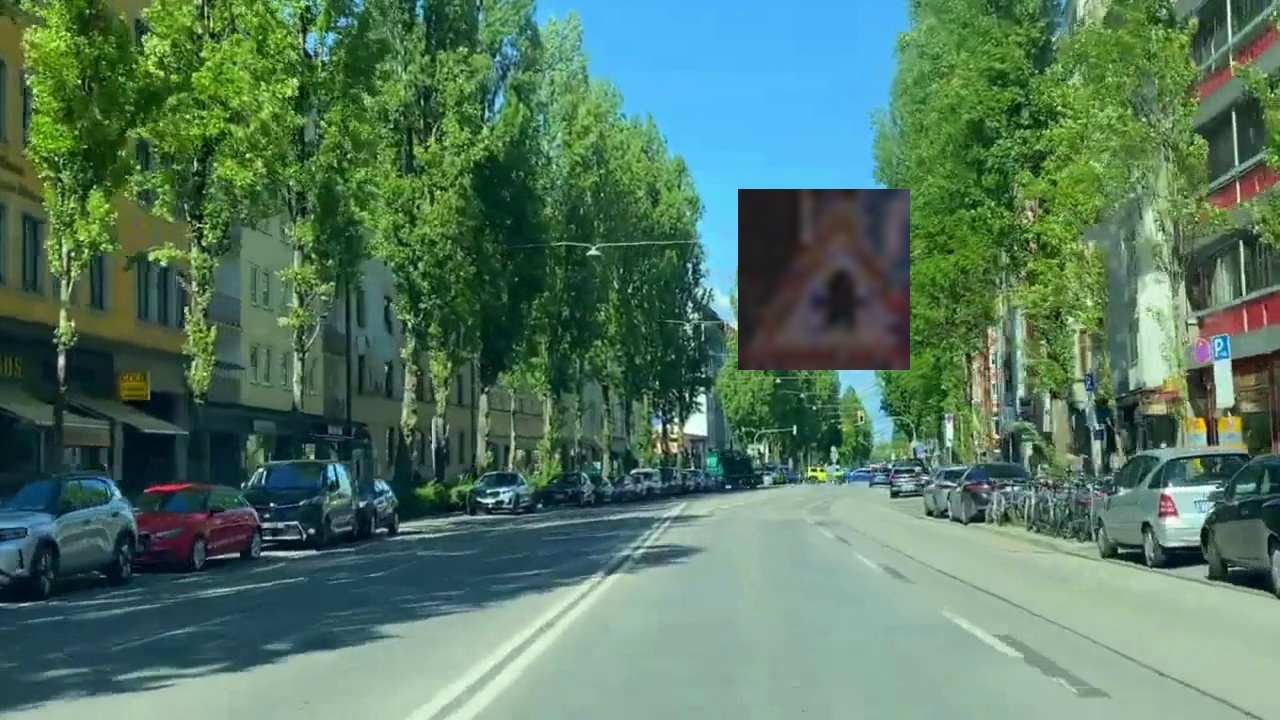Right-of-way: (738, 189, 910, 370)
